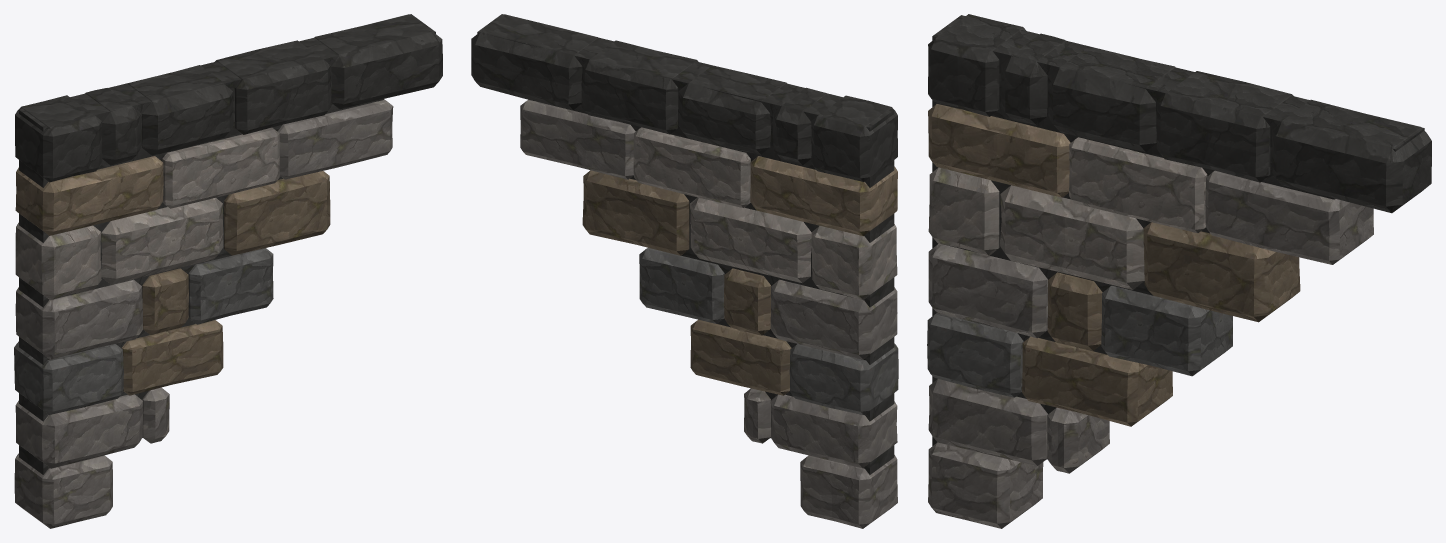
File: sloped_wall_down__cut_stone.glb
The picture shows the model from 3 angles, left to right: view 1: azimuth 30°, elevation 25°; view 2: azimuth 150°, elevation 25°; view 3: azimuth 330°, elevation 25°; orthographic projection. The views are drawn at different scales.
Visible parts, largest first — view 1: model; view 2: model; view 3: model.
Boxes of the visible parts, x1,y1,x2,y2 form: model: (14,14,442,528); model: (471,14,898,528); model: (927,14,1431,528).
Size of the model in its own units: 1.75 by 1.68 by 0.2818.
6 materials, 6 textured.
